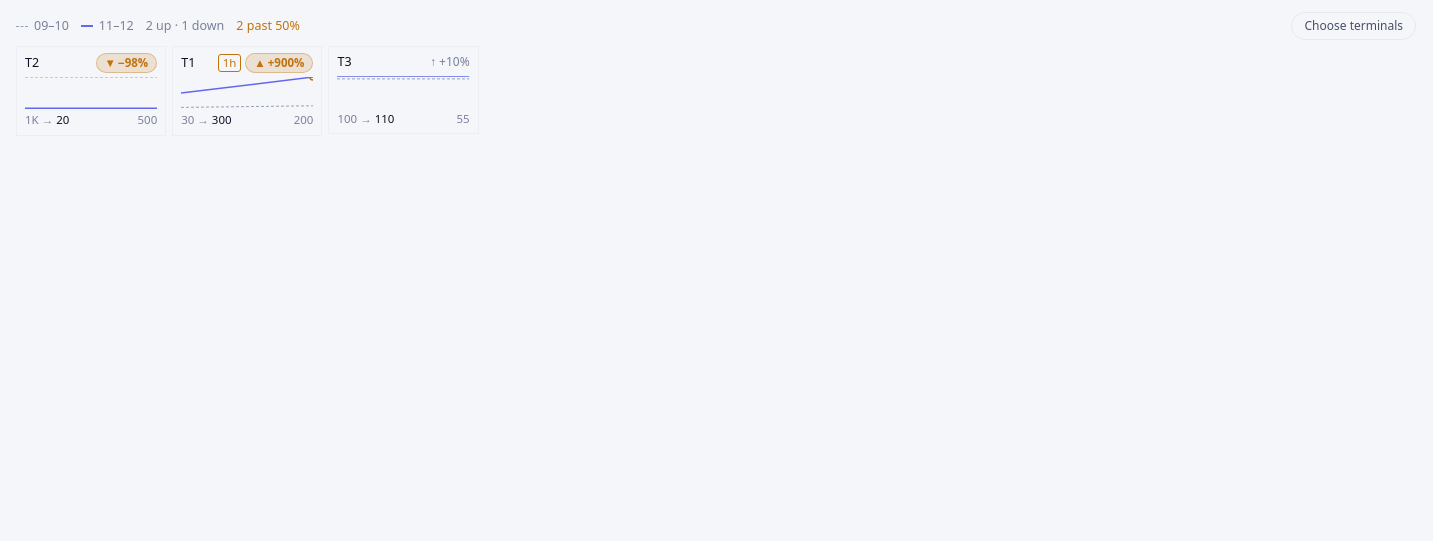
Test case: CompareGridView: maximising a panel › says plainly when no hour crossed, rather than showing nothing
Click the button named "Maximise T3". click: (404, 90)
box: x1=328 y1=46 x2=479 y2=134
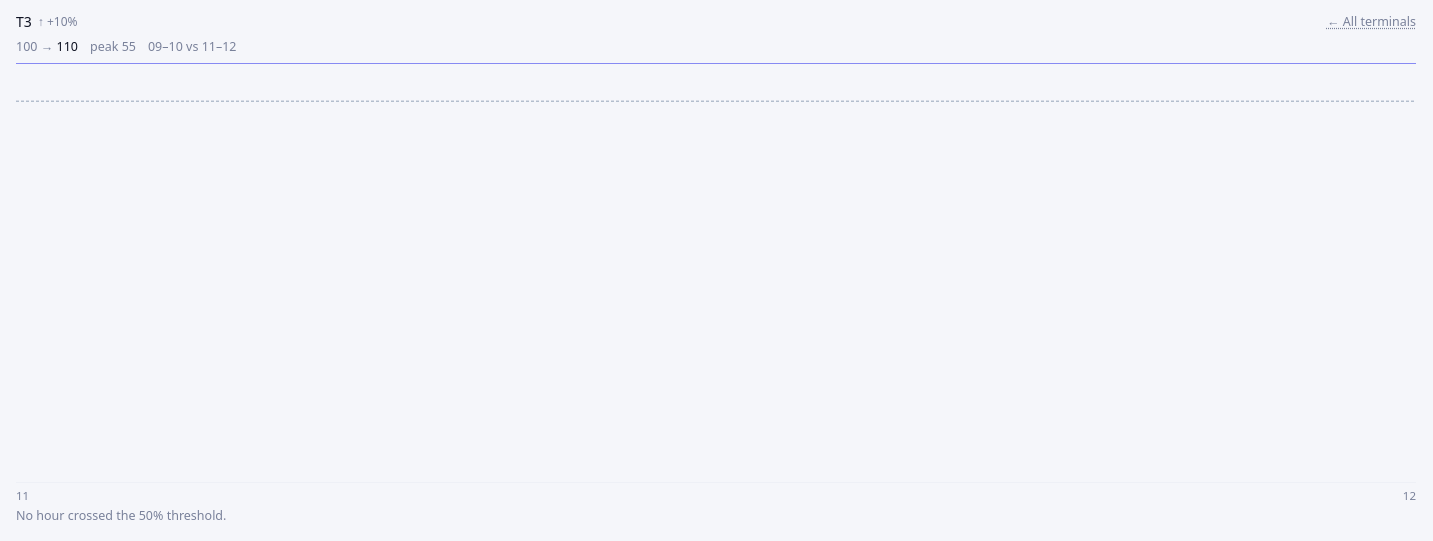
expect the text "No hour crossed the 50% threshold." is shown: met, box x1=16 y1=507 x2=226 y2=524
